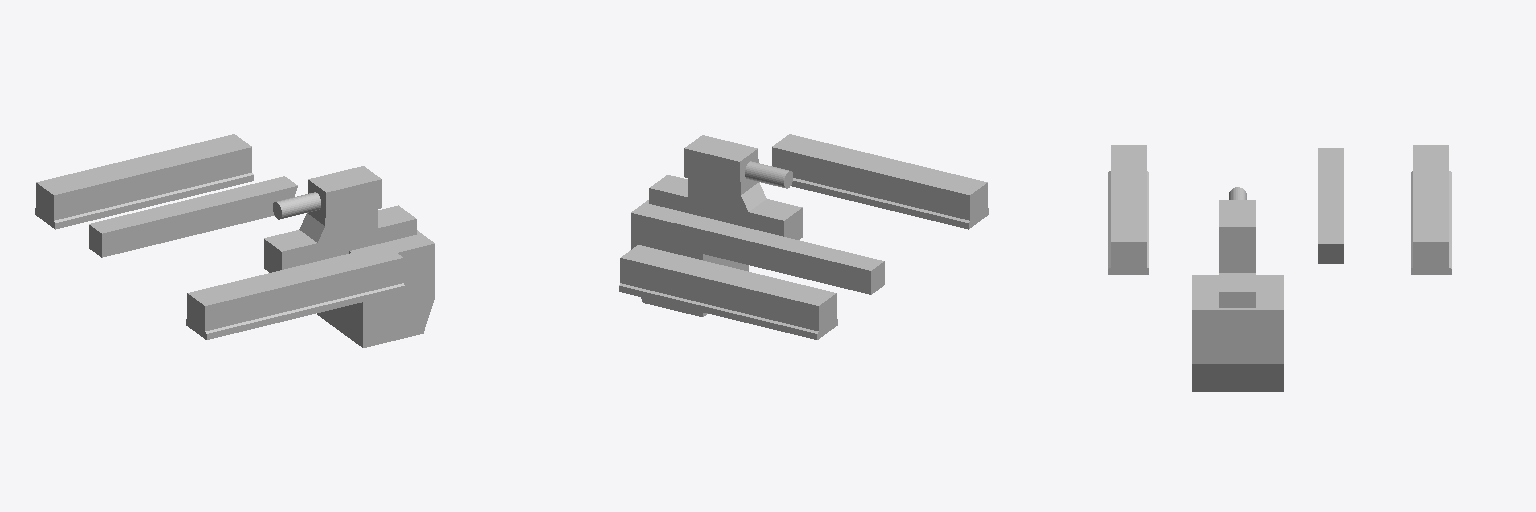
Rendered from fuehrung_li.obj.
The picture shows the model from 3 angles: view 1: azimuth 30°, elevation 25°; view 2: azimuth 150°, elevation 25°; view 3: azimuth 270°, elevation 25°; orthographic projection.
Visible parts, largest first — view 1: 1, 3, 0, 4, 2; view 2: 0, 3, 1, 4, 2; view 3: 2, 1, 0, 3, 4.
Part boxes in pixels (left/top/right/bottom): 1: left=264, top=166, right=434, bottom=347; 3: left=186, top=245, right=404, bottom=339; 0: left=35, top=134, right=253, bottom=229; 4: left=89, top=176, right=297, bottom=257; 2: left=363, top=244, right=434, bottom=347; 0: left=619, top=245, right=837, bottom=339; 3: left=772, top=134, right=988, bottom=229; 1: left=631, top=135, right=802, bottom=316; 4: left=675, top=213, right=884, bottom=294; 2: left=631, top=213, right=702, bottom=316; 2: left=1192, top=310, right=1283, bottom=391; 1: left=1192, top=187, right=1283, bottom=309; 0: left=1411, top=145, right=1451, bottom=274; 3: left=1108, top=145, right=1148, bottom=274; 4: left=1318, top=148, right=1343, bottom=263.
Size of the model in its own units: 341 by 182 by 375.